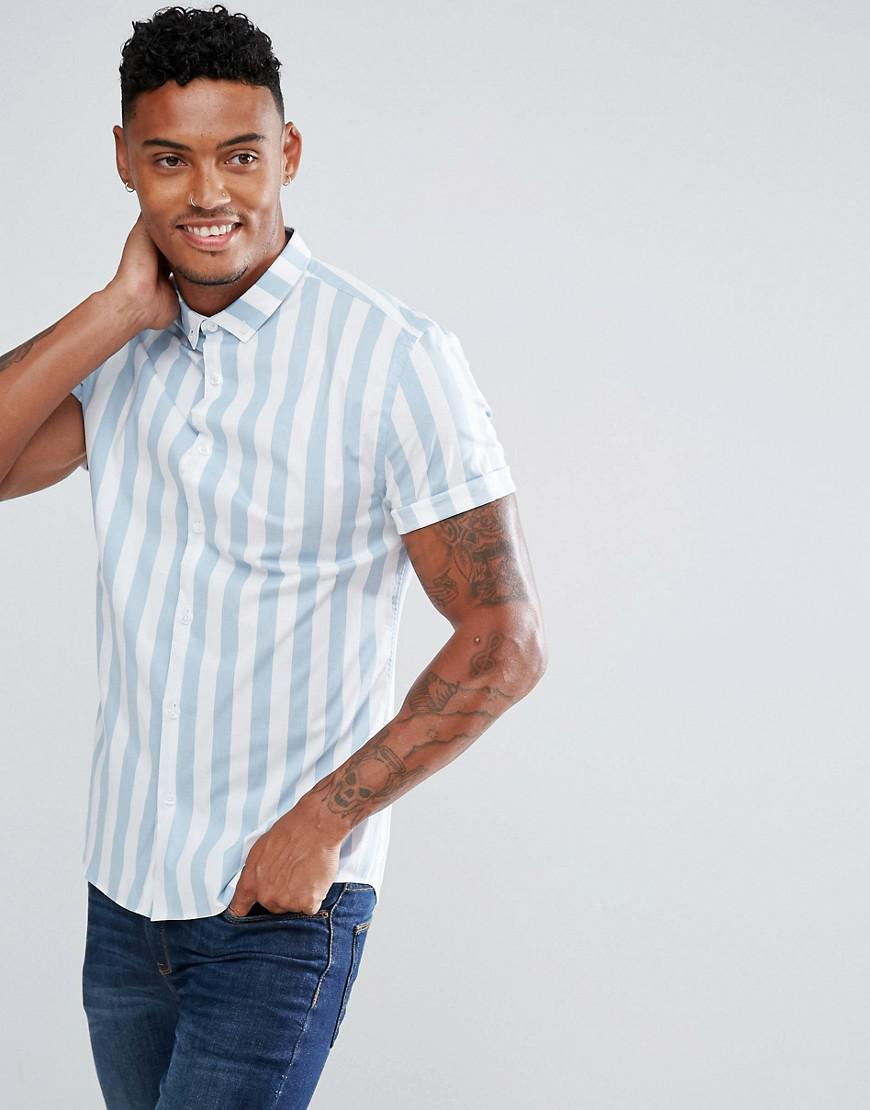teeshirt: (52, 247, 501, 932)
